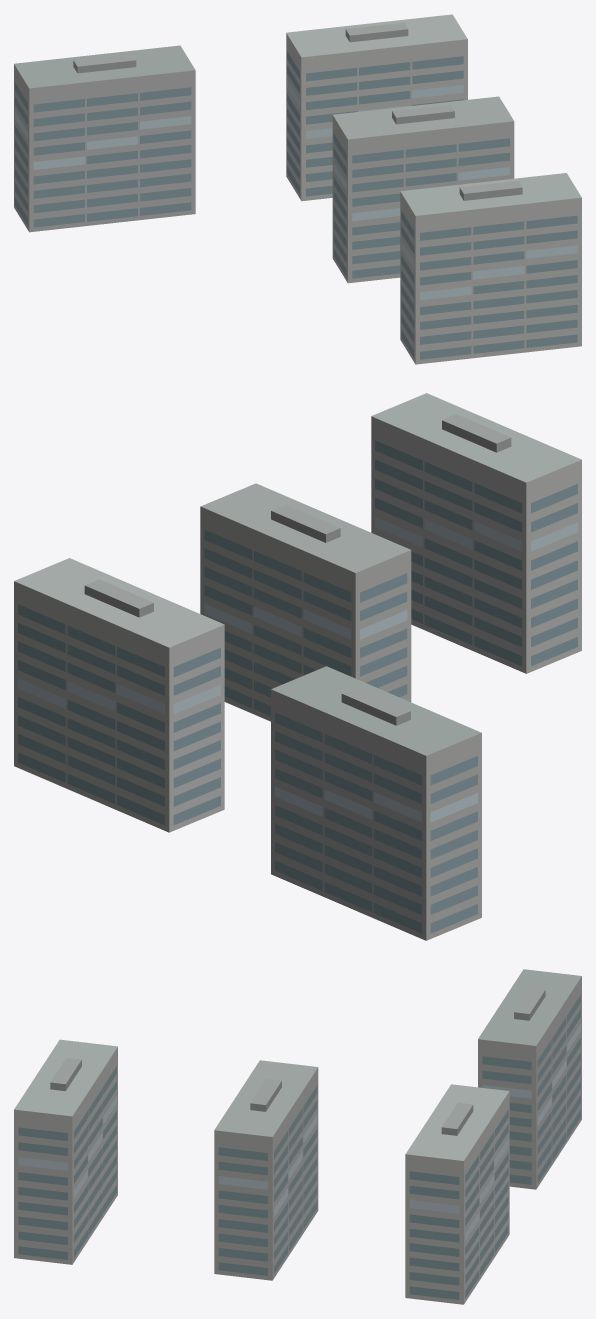
The model's file is apt-a10023059.glb.
3 views of the same model, one above another, from view 1: azimuth 30°, elevation 25°; view 2: azimuth 150°, elevation 25°; view 3: azimuth 270°, elevation 25° (orthographic). The views are drawn at different scales.
Parts seen in each view (by area): view 1: apt-a10023059; view 2: apt-a10023059; view 3: apt-a10023059.
Boxes of the visible parts, x1,y1,x2,y2 form: apt-a10023059: [14, 14, 581, 364]; apt-a10023059: [14, 393, 581, 940]; apt-a10023059: [14, 969, 581, 1304].
Bounding box in the file's own units: 82.04 × 31 × 103.
